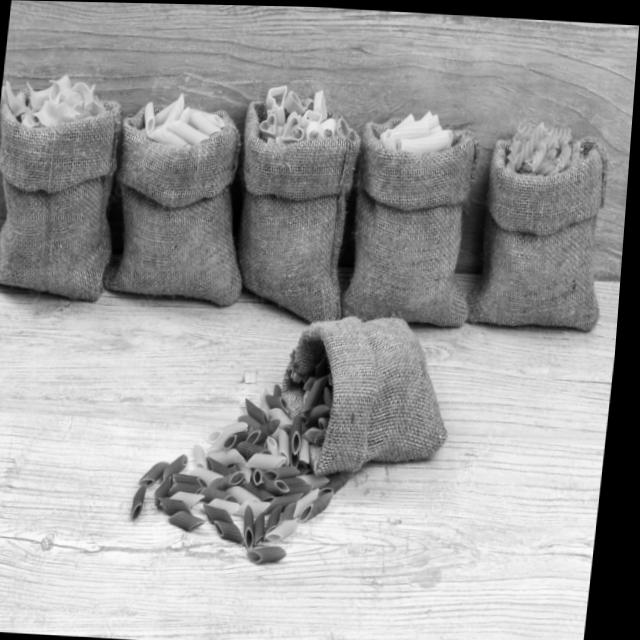sack: (278, 309, 464, 479), (341, 117, 490, 328), (107, 103, 261, 307), (467, 124, 620, 329), (228, 98, 365, 320), (0, 92, 129, 302)
